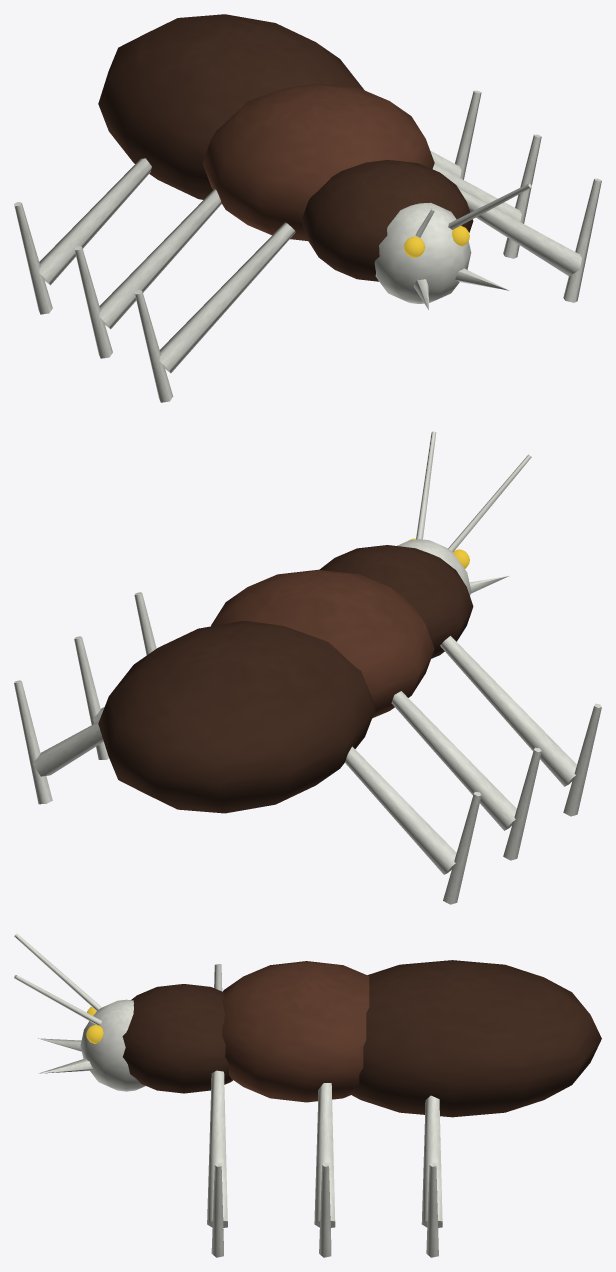
File: enemy_radscorp.glb
3 renders of one model, top to bottom at view 1: azimuth 30°, elevation 25°; view 2: azimuth 150°, elevation 25°; view 3: azimuth 270°, elevation 25°, orthographic. The views are drawn at different scales.
Visible parts, largest first — view 1: object 8, head, object 6, armL, legL, object 7, armR, legR; view 2: object 8, object 6, armL, legL, legR, head, armR, object 7; view 3: object 8, head, object 7, armR, legR.
Part boxes in pixels (x1,y1,x2,y2): object 8: (98, 14, 473, 281); head: (374, 183, 531, 309); object 6: (134, 222, 295, 402); armL: (74, 189, 221, 358); legL: (14, 158, 151, 314); object 7: (458, 178, 601, 302); armR: (432, 134, 541, 258); legR: (430, 90, 481, 179); object 8: (98, 545, 473, 813); object 6: (440, 636, 601, 816); armL: (391, 691, 541, 860); legL: (345, 746, 481, 904); legR: (14, 680, 103, 804); head: (397, 431, 531, 595); armR: (74, 636, 109, 759); object 7: (134, 592, 156, 654); object 8: (122, 960, 601, 1117); head: (14, 933, 145, 1091); object 7: (207, 1070, 227, 1257); armR: (314, 1083, 335, 1257); legR: (421, 1095, 442, 1257).
Bounding box in the file's own units: 1.25 × 0.613 × 1.53.
10 materials, 8 textured.
